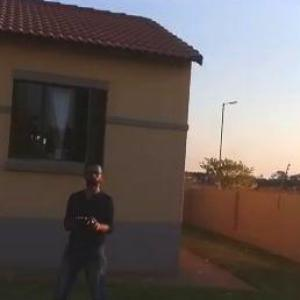follow: (40, 149, 126, 299)
